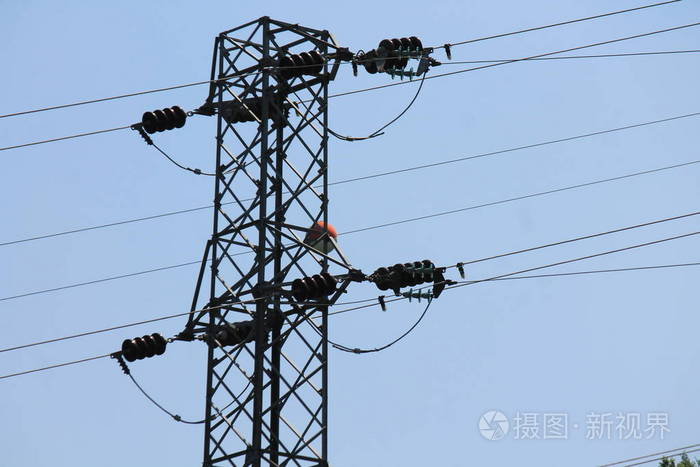insulator: (371, 258, 439, 289), (278, 48, 330, 76), (141, 104, 188, 134), (293, 271, 341, 300), (121, 332, 166, 360), (377, 35, 425, 60), (405, 286, 436, 304), (385, 65, 416, 81), (392, 45, 426, 59)
